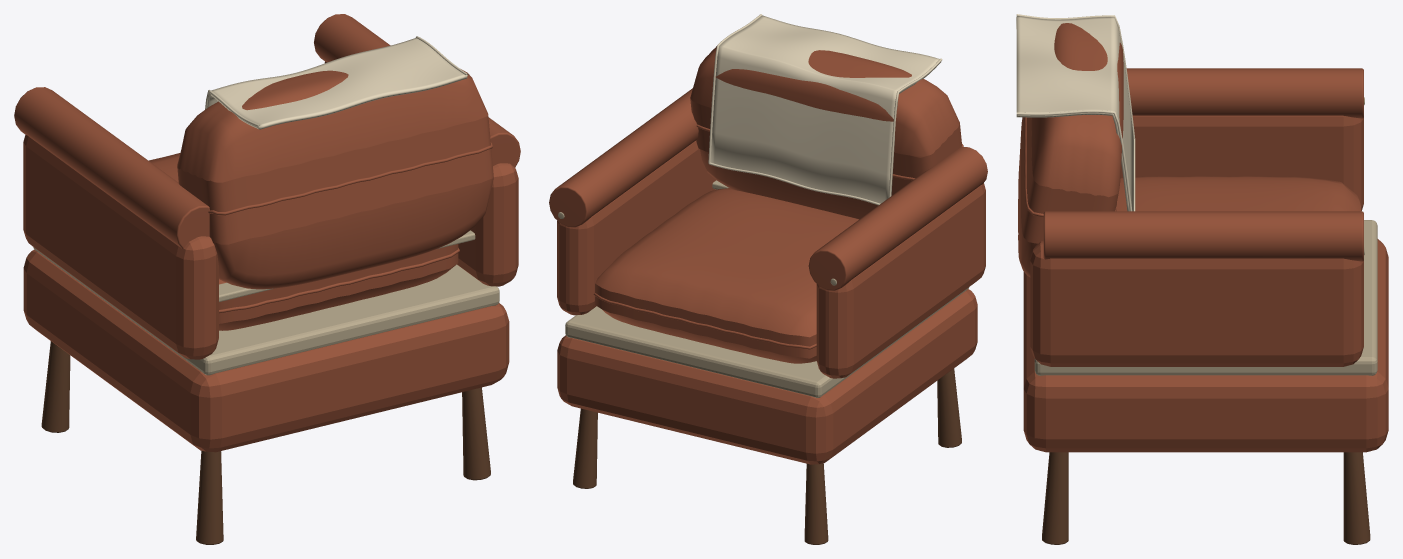
Rendered from armchair.glb.
3 views of the same model, side by side, from view 1: azimuth 30°, elevation 25°; view 2: azimuth 150°, elevation 25°; view 3: azimuth 270°, elevation 25° (orthographic). The views are drawn at different scales.
Parts seen in each view (by area): view 1: armchair__fabric_terracotta, armchair__seam_linen, armchair__fabric_linen, armchair__wood_walnut; view 2: armchair__fabric_terracotta, armchair__fabric_linen, armchair__seam_linen, armchair__wood_walnut; view 3: armchair__fabric_terracotta, armchair__fabric_linen, armchair__seam_linen, armchair__wood_walnut.
Part boxes in pixels (x1,y1,x2,y2): armchair__fabric_terracotta: (14, 14, 520, 452); armchair__seam_linen: (33, 230, 499, 375); armchair__fabric_linen: (205, 36, 468, 129); armchair__wood_walnut: (41, 341, 490, 544); armchair__fabric_terracotta: (549, 46, 987, 464); armchair__fabric_linen: (708, 14, 942, 205); armchair__seam_linen: (558, 180, 969, 397); armchair__wood_walnut: (573, 368, 961, 544); armchair__fabric_terracotta: (1018, 23, 1388, 452); armchair__fabric_linen: (1016, 14, 1135, 211); armchair__seam_linen: (1034, 97, 1377, 375); armchair__wood_walnut: (1042, 452, 1370, 544).
Bounding box in the file's own units: 0.862 × 1.02 × 0.8262.
